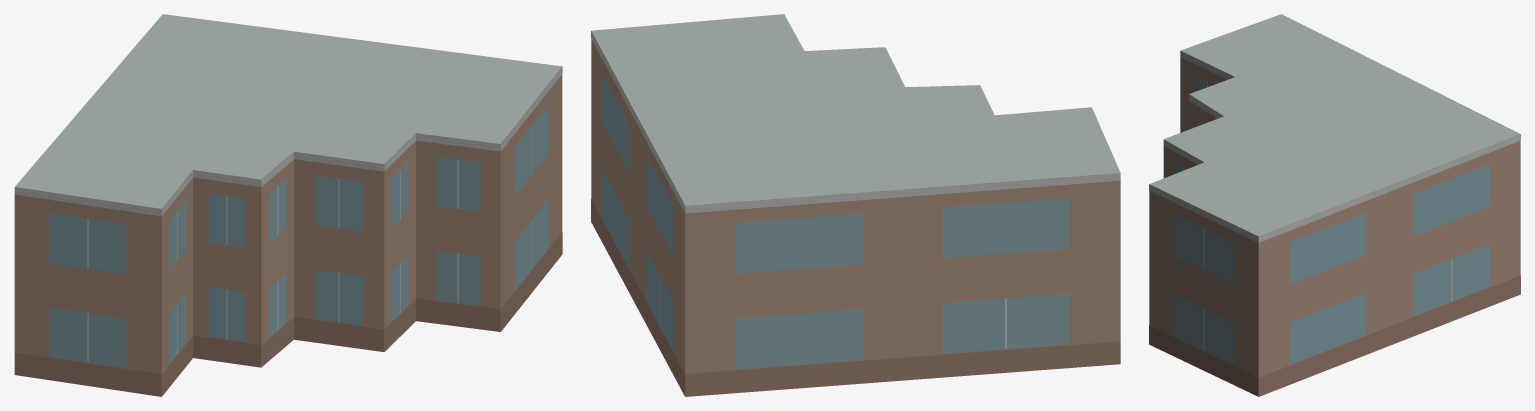
Rendered from survey-upis-32802790.glb.
The picture shows the model from 3 angles, left to right: view 1: azimuth 30°, elevation 25°; view 2: azimuth 150°, elevation 25°; view 3: azimuth 270°, elevation 25°; orthographic projection. The views are drawn at different scales.
Visible parts, largest first — view 1: survey-upis-32802790.tmp; view 2: survey-upis-32802790.tmp; view 3: survey-upis-32802790.tmp.
Part boxes in pixels (left/top/right/bottom): survey-upis-32802790.tmp: left=14, top=14, right=562, bottom=396; survey-upis-32802790.tmp: left=591, top=14, right=1120, bottom=396; survey-upis-32802790.tmp: left=1149, top=14, right=1520, bottom=396.
Bounding box in the file's own units: 18.16 × 6.1 × 12.81.
